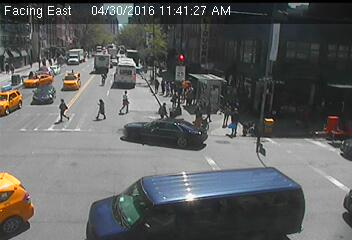neg: (203, 153, 226, 183), (269, 18, 289, 46), (312, 107, 332, 134), (40, 144, 59, 170), (39, 34, 57, 58), (320, 149, 338, 173), (288, 175, 306, 198), (5, 113, 22, 137), (123, 123, 140, 146), (244, 54, 261, 76), (170, 49, 186, 71), (165, 132, 181, 153), (143, 6, 158, 27), (111, 166, 126, 186), (189, 18, 204, 38), (210, 51, 225, 71), (144, 43, 159, 63), (63, 22, 78, 41), (268, 107, 282, 127), (97, 70, 110, 87), (12, 12, 25, 29), (66, 68, 78, 85), (316, 40, 328, 56), (33, 70, 45, 85), (251, 138, 261, 151), (91, 44, 100, 57)
pos: (224, 106, 246, 136), (49, 95, 71, 124), (89, 95, 109, 122), (114, 89, 132, 113), (219, 100, 237, 124), (201, 102, 218, 124), (189, 100, 205, 122), (153, 99, 169, 120), (149, 76, 163, 95), (169, 90, 182, 109), (156, 76, 169, 94), (1, 59, 12, 74), (163, 80, 173, 93), (7, 63, 16, 74)
